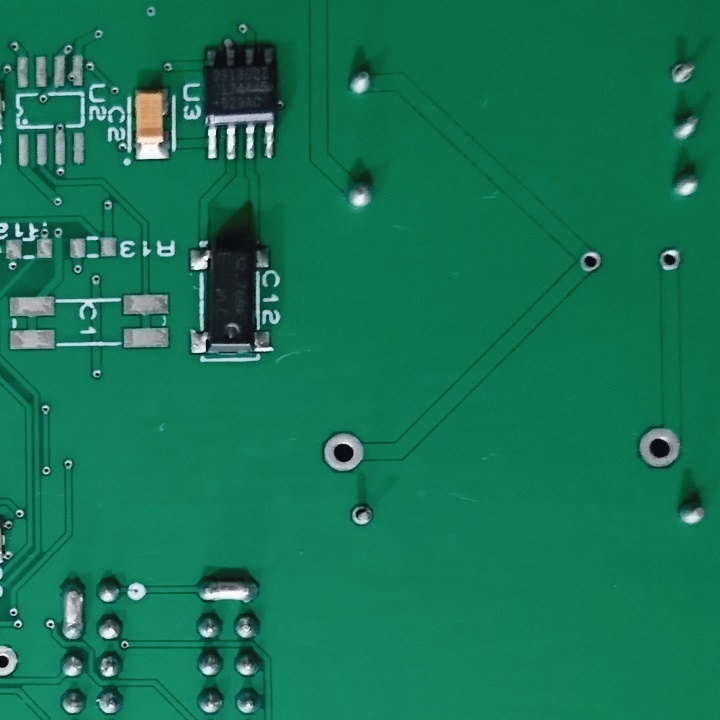F: (636, 421, 687, 473), (316, 429, 368, 477), (667, 56, 699, 88), (347, 499, 377, 532), (655, 246, 685, 274), (577, 247, 604, 275), (1, 643, 21, 678)
P: (193, 573, 264, 607), (57, 576, 92, 643)
